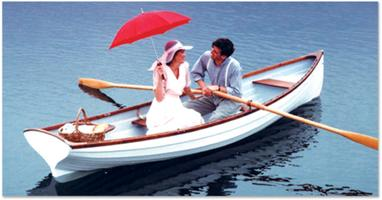person: (182, 38, 243, 124)
